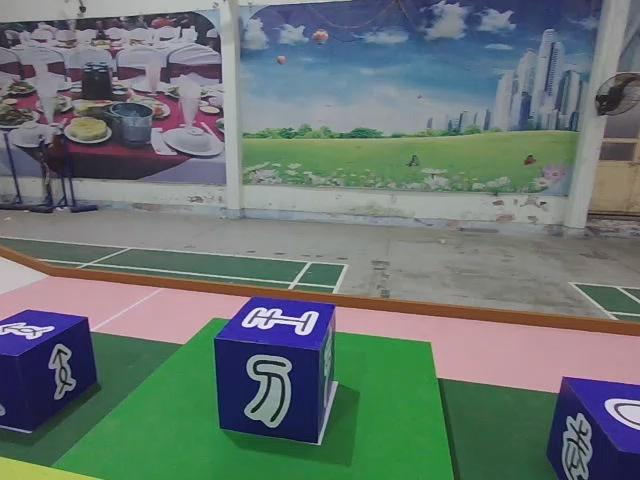R2 Fake Blue: (214, 297, 338, 445), (547, 378, 638, 480)
R2 Real Blue: (0, 310, 99, 435)
